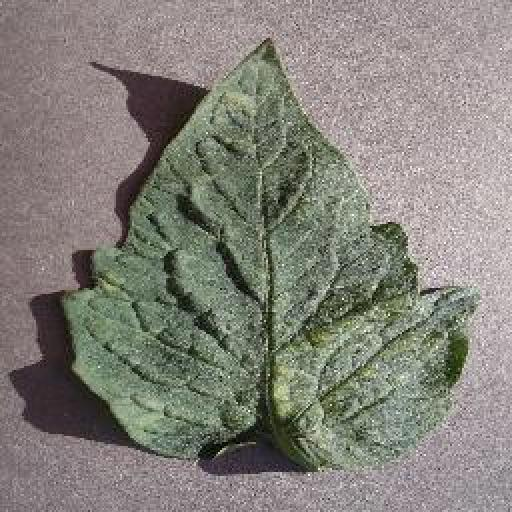disease_tomato: (64, 34, 482, 470)
